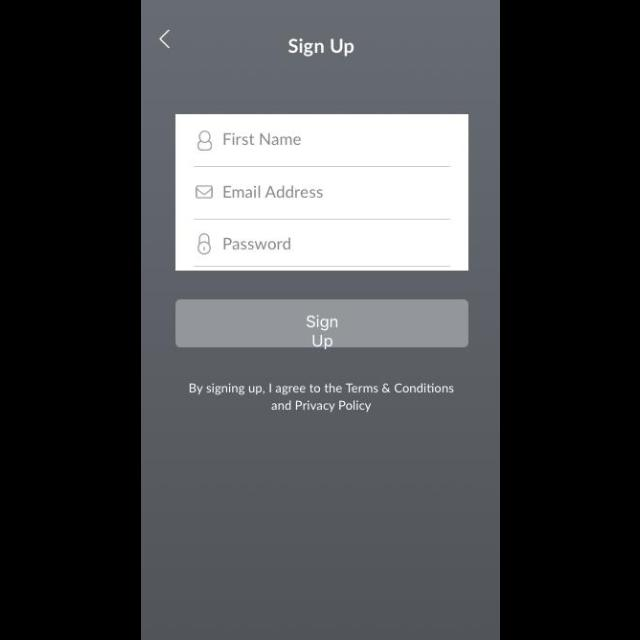icon: (197, 234, 211, 256), (198, 132, 212, 152), (157, 30, 171, 50), (195, 185, 212, 199)
input: (194, 130, 452, 168), (194, 233, 452, 267), (194, 186, 451, 220)
text: (188, 383, 454, 412), (287, 38, 355, 58), (223, 186, 323, 198), (223, 237, 291, 251), (223, 134, 301, 146)
textbutton: (175, 300, 469, 348)
